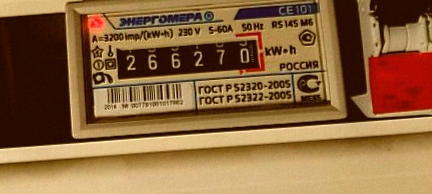0: (238, 47, 251, 64)
2: (123, 53, 137, 72), (192, 49, 204, 68)
6: (146, 52, 159, 71), (169, 52, 182, 70)
7: (215, 47, 227, 66)
screen: (105, 28, 271, 89)
